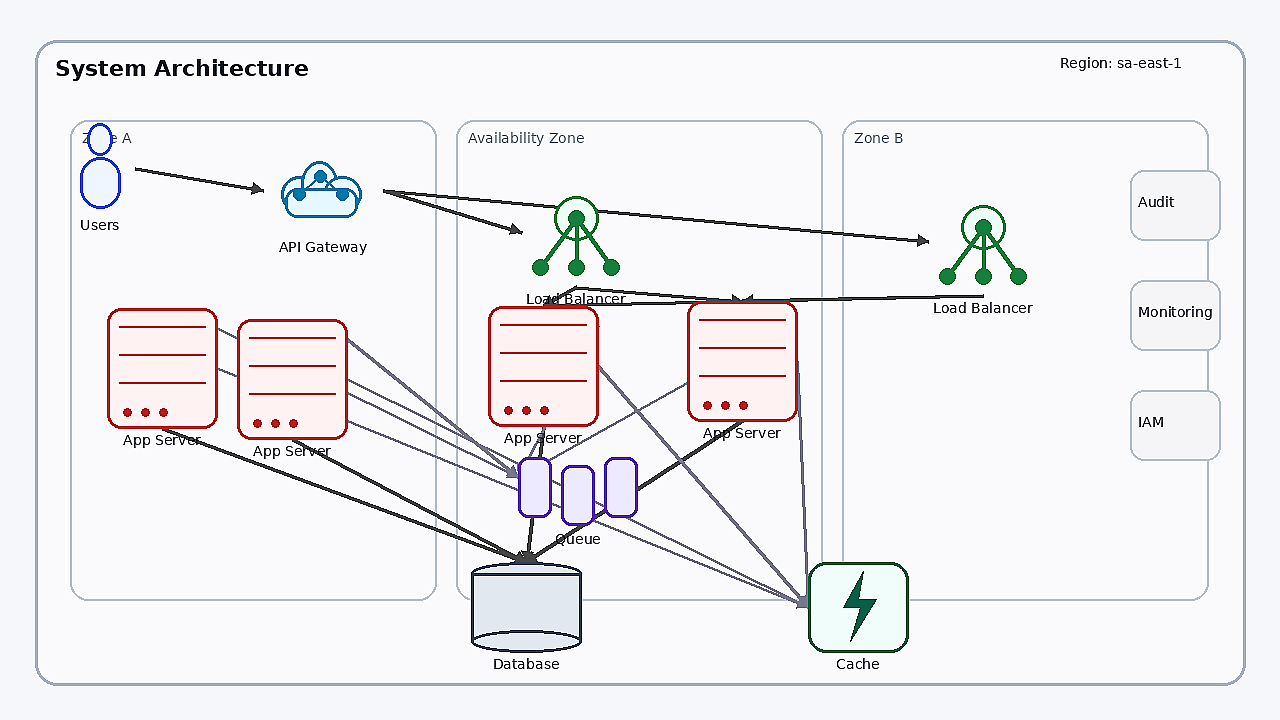API Gateway: (263, 145, 383, 235)
Application Server: (687, 301, 797, 421), (237, 319, 347, 439), (488, 306, 598, 426), (107, 308, 217, 428)
Cache: (808, 562, 908, 652)
Database: (471, 562, 581, 652)
Load Balancer: (928, 186, 1038, 296), (521, 177, 631, 287)
Message Queue: (518, 457, 638, 527)
User: (65, 123, 135, 213)
